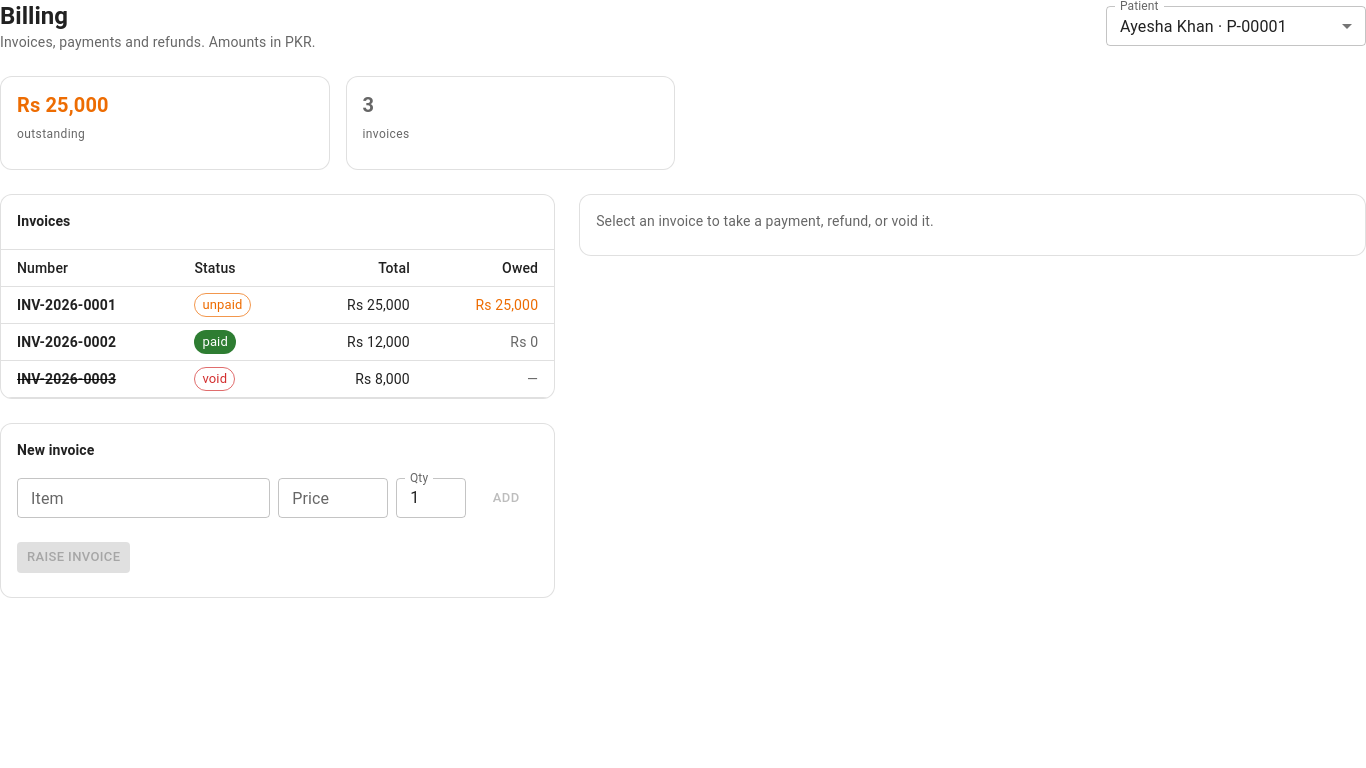
voiding an invoice › asks first, naming the invoice and the amount, and cancelling writes nothing
Click the text "INV-2026-0001" at (90, 305), box [1,286,178,324]
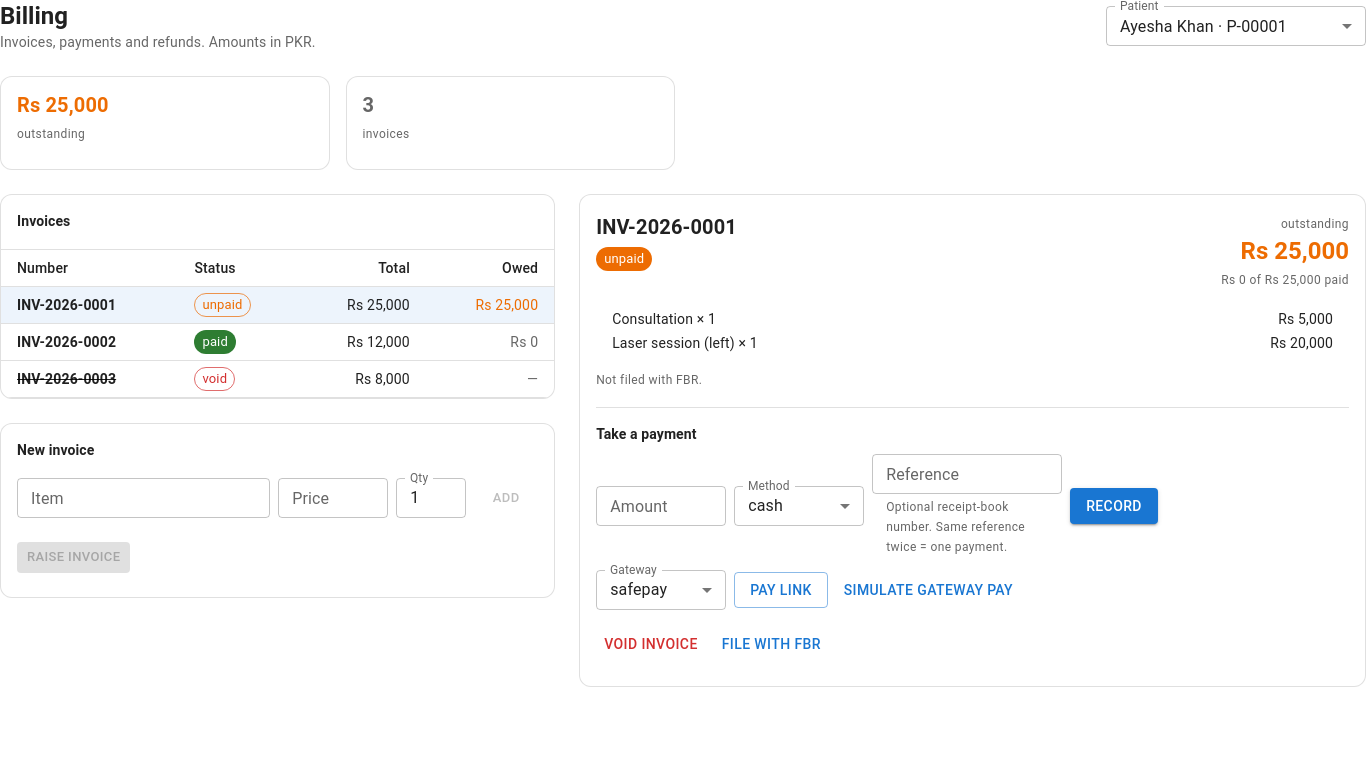
Expected: the heading "INV-2026-0001" is shown, [596,211,737,243]
Click the button "Void invoice" at (651, 644), box [596,626,706,662]
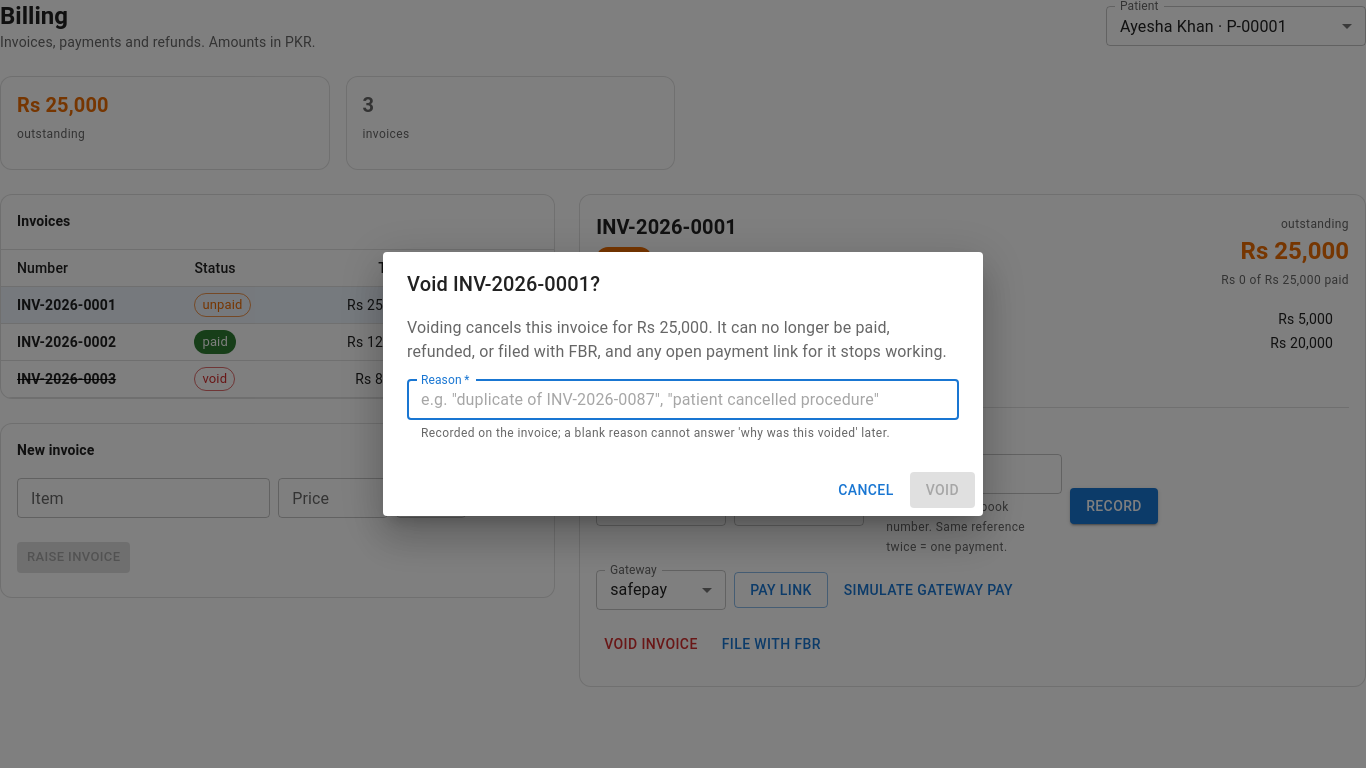
Expected: the heading "Void INV-2026-0001?" is shown, [407,272,600,296]
Expected: the text "cancels this invoice for Rs 25,000" is shown, [407,316,959,364]
Expected: the text "any open payment link for it stops working" is shown, [407,318,947,361]
Click the button "Cancel" at (866, 490), box [830,472,902,508]
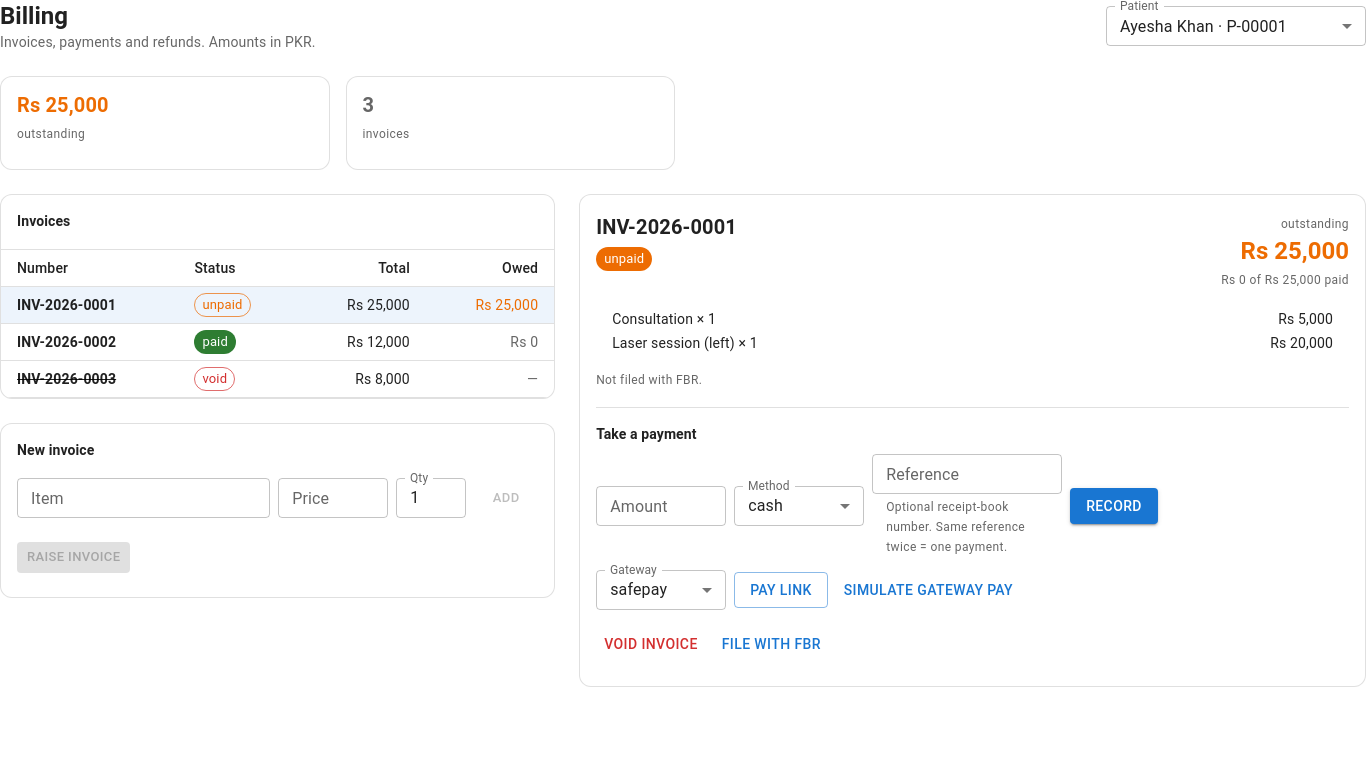
Expected: the dialog is gone
